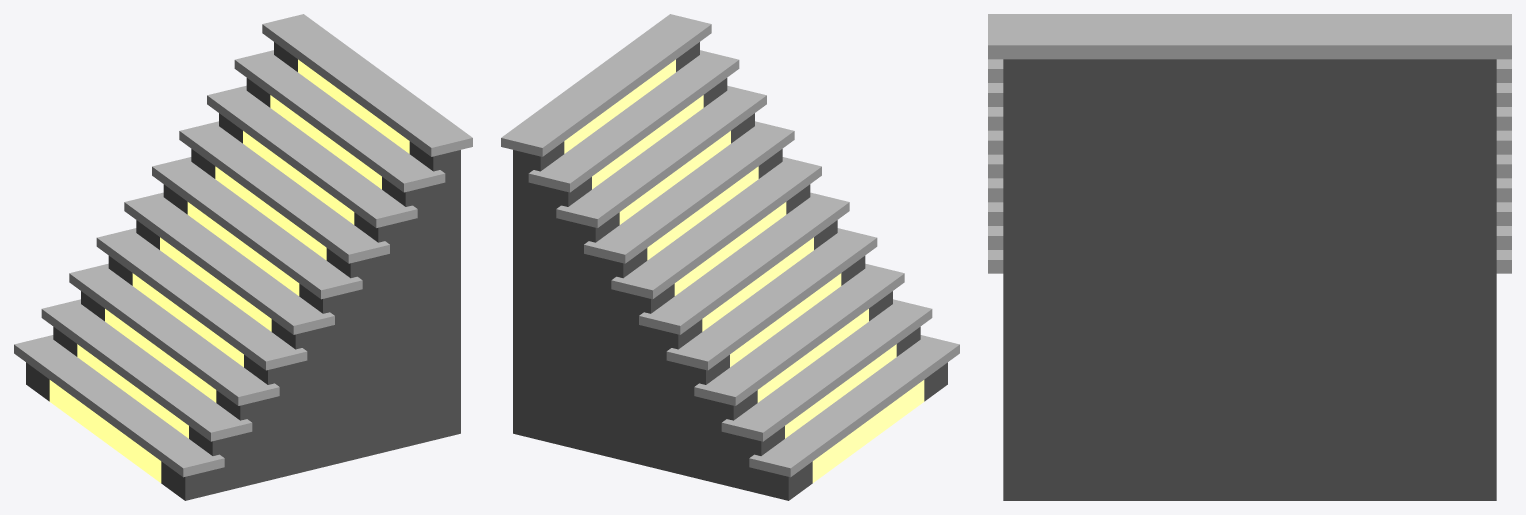
File: stairslight.fbx
The picture shows the model from 3 angles, left to right: view 1: azimuth 30°, elevation 25°; view 2: azimuth 150°, elevation 25°; view 3: azimuth 270°, elevation 25°; orthographic projection. The views are drawn at different scales.
Visible parts, largest first — view 1: Cube.030; view 2: Cube.030; view 3: Cube.030.
Boxes of the visible parts, left/top/right/bottom form: Cube.030: left=14, top=14, right=472, bottom=500; Cube.030: left=501, top=14, right=959, bottom=500; Cube.030: left=988, top=14, right=1511, bottom=500.
Size of the model in its own units: 2.1 by 2.06 by 2.13.
